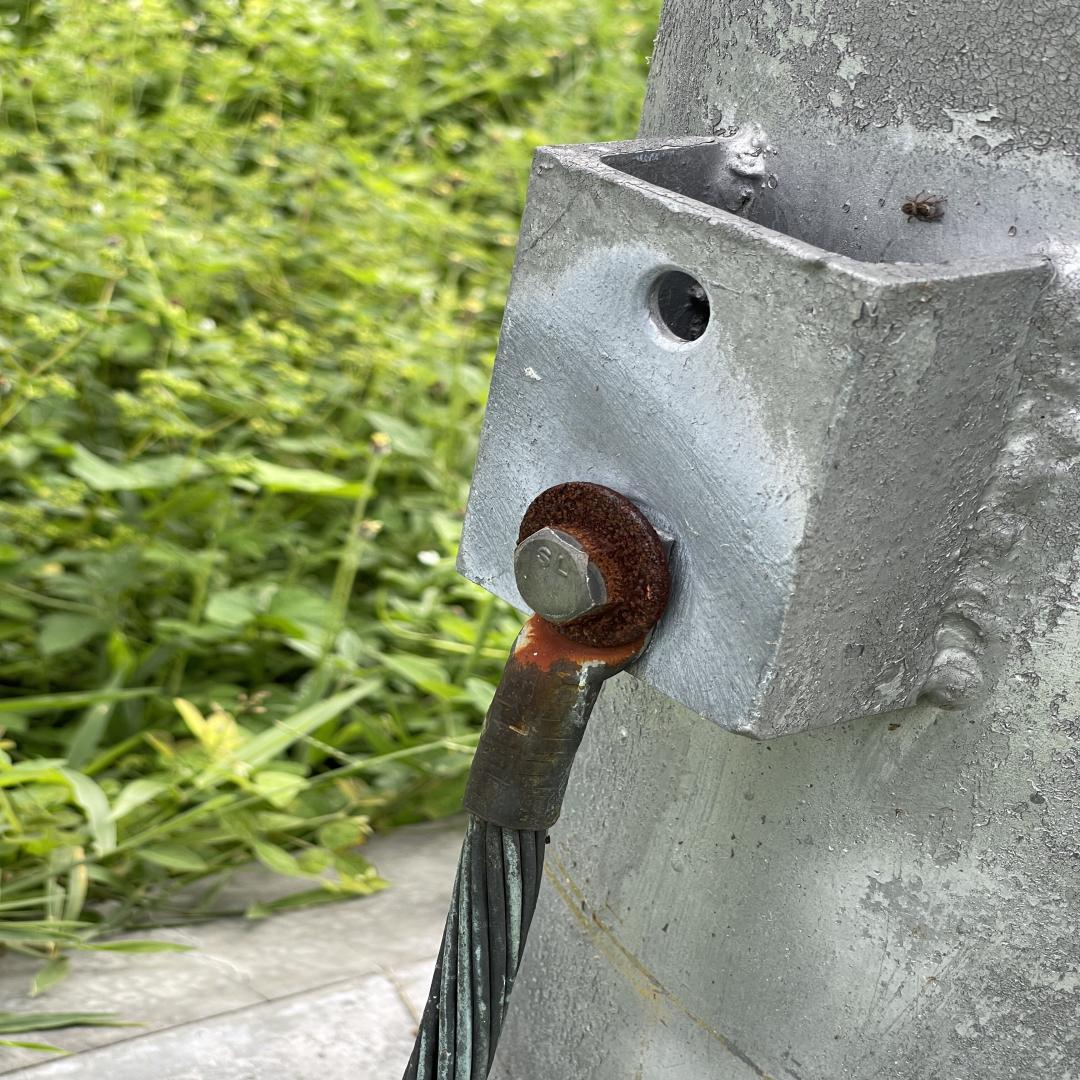Metal: (406, 0, 1080, 1080)
Metal corroido: (515, 483, 677, 677)
Tornillo sin corrosion: (514, 527, 606, 622)
